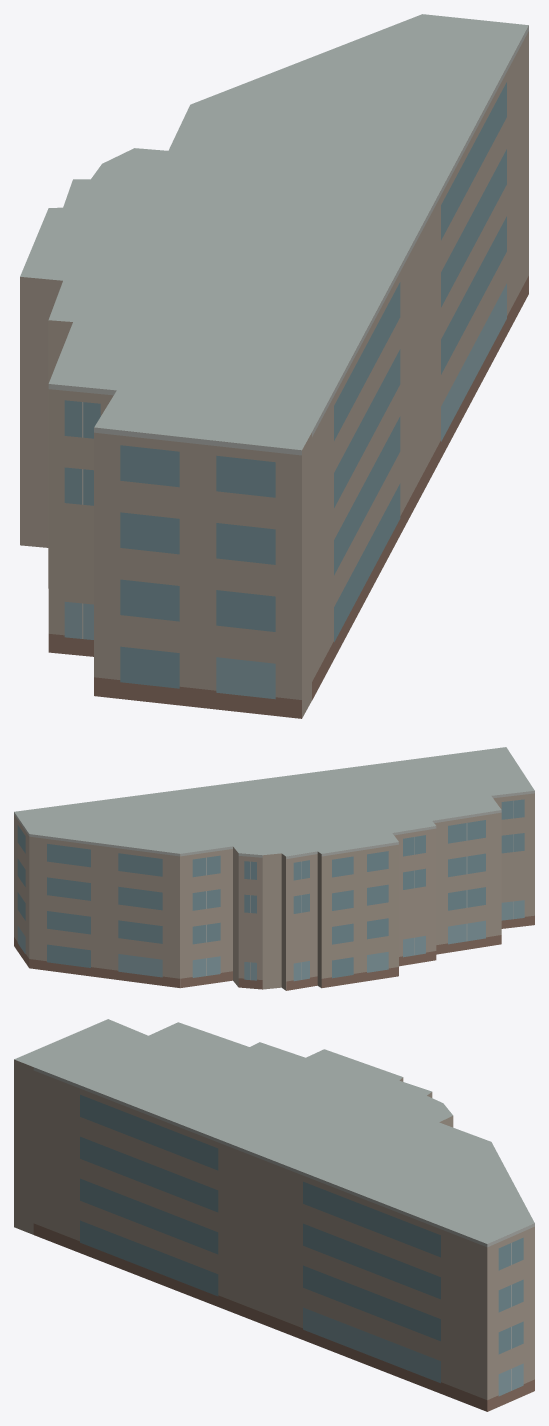
Rendered from survey-upis-33017935.glb.
3 views of the same model, one above another, from view 1: azimuth 30°, elevation 25°; view 2: azimuth 150°, elevation 25°; view 3: azimuth 270°, elevation 25° (orthographic). The views are drawn at different scales.
Visible parts, largest first — view 1: survey-upis-33017935.tmp; view 2: survey-upis-33017935.tmp; view 3: survey-upis-33017935.tmp.
Boxes of the visible parts, bbox=[...] form: survey-upis-33017935.tmp: bbox=[20, 14, 528, 718]; survey-upis-33017935.tmp: bbox=[14, 747, 534, 990]; survey-upis-33017935.tmp: bbox=[14, 1019, 534, 1411].
Bounding box in the file's own units: 35.96 × 12.5 × 35.17.
